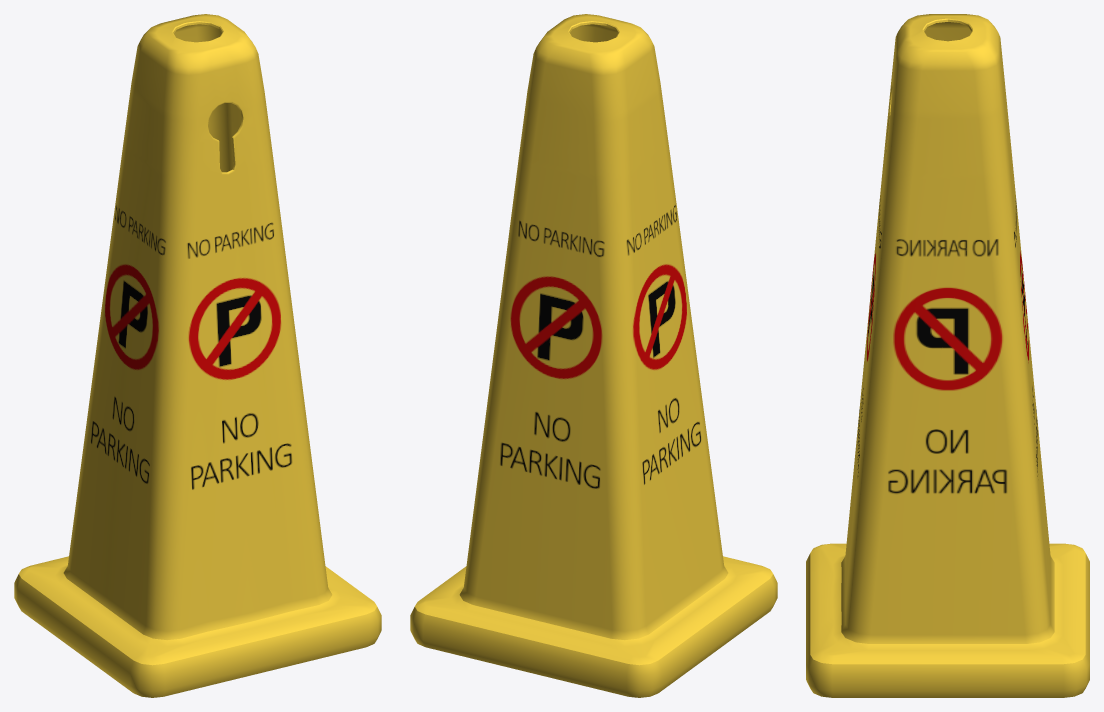
The model's file is trafficconev2.fbx.
3 views of the same model, side by side, from view 1: azimuth 30°, elevation 25°; view 2: azimuth 150°, elevation 25°; view 3: azimuth 270°, elevation 25° (orthographic). The views are drawn at different scales.
Parts seen in each view (by area): view 1: trafficcone_v2; view 2: trafficcone_v2; view 3: trafficcone_v2.
Part boxes in pixels (box(x1,y1,x2,y2)): trafficcone_v2: box(14, 14, 381, 697); trafficcone_v2: box(410, 14, 777, 697); trafficcone_v2: box(806, 14, 1089, 697).
Bounding box in the file's own units: 44.21 × 101 × 42.67.
Materials: 1 (1 with a texture image).
